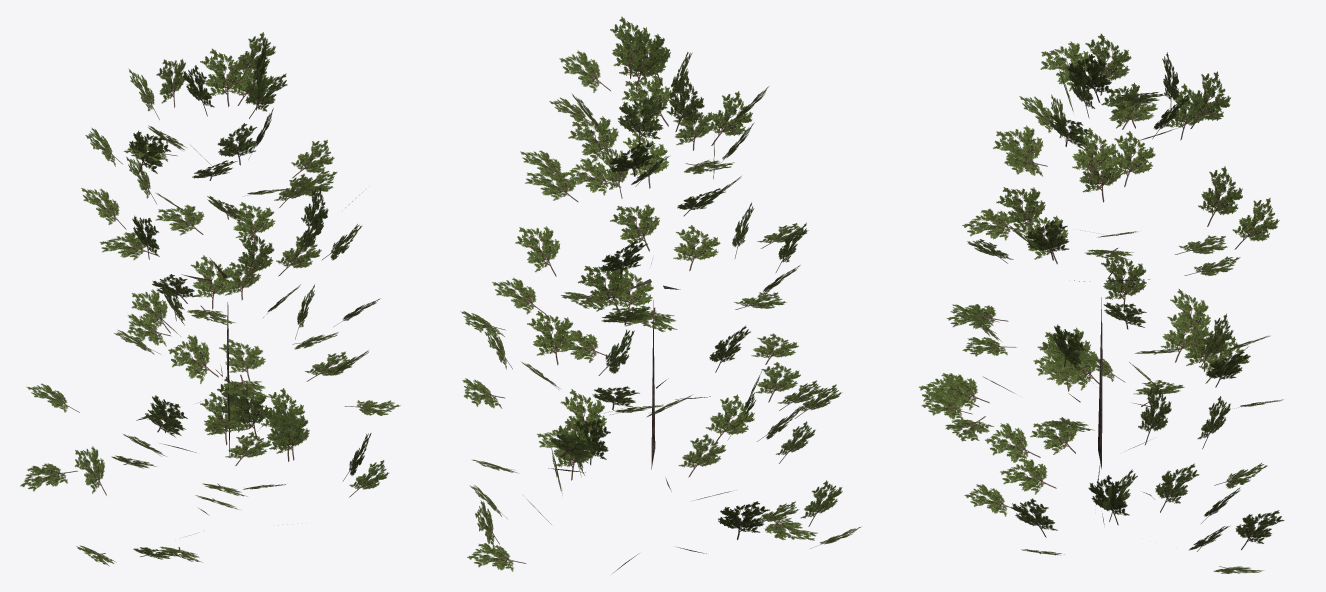
Rendered from fir_0_lod2.glb.
The picture shows the model from 3 angles, left to right: view 1: azimuth 30°, elevation 25°; view 2: azimuth 150°, elevation 25°; view 3: azimuth 270°, elevation 25°; orthographic projection. The views are drawn at different scales.
Parts seen in each view (by area): view 1: NobleFirTree; view 2: NobleFirTree; view 3: NobleFirTree.
Part boxes in pixels (box(x1,y1,x2,y2)): NobleFirTree: box(20, 32, 400, 566); NobleFirTree: box(460, 16, 861, 573); NobleFirTree: box(918, 33, 1284, 573).
Size of the model in its own units: 4.84 by 6.88 by 4.96.
2 materials, 2 textured.
